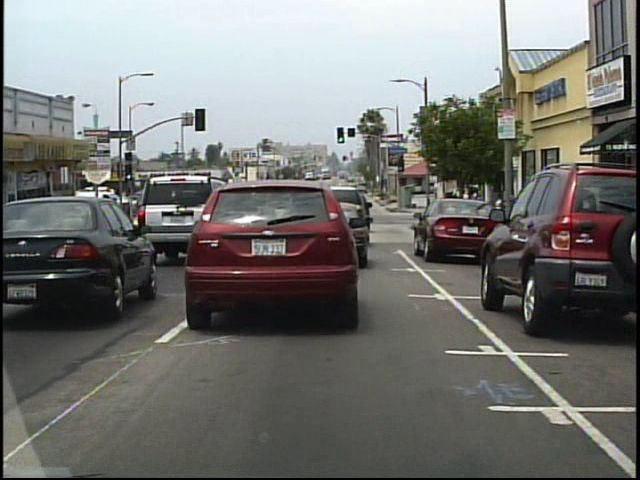person: (460, 192, 473, 234), (449, 193, 461, 234), (469, 190, 483, 225)
